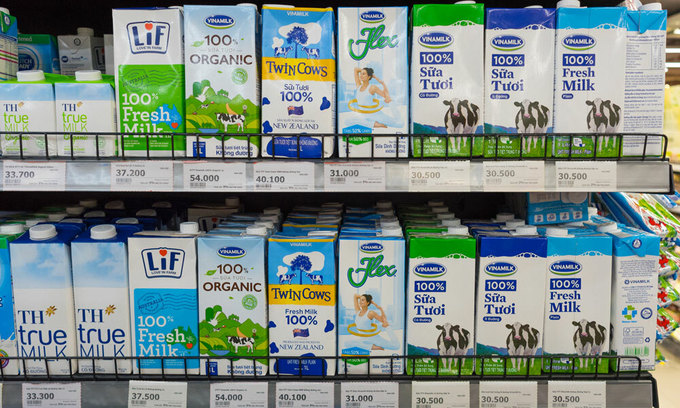lifmilk: (126, 19, 171, 57), (139, 244, 185, 281)
thtruemilk: (17, 305, 58, 325), (77, 304, 117, 323), (2, 101, 27, 113), (61, 101, 84, 111)
twincowsmilk: (264, 58, 327, 79), (271, 285, 331, 303)
vinamilk: (417, 29, 455, 50), (560, 32, 598, 51), (549, 258, 584, 277), (483, 260, 519, 278), (489, 34, 527, 51), (412, 260, 446, 278), (203, 12, 235, 30), (355, 10, 387, 25), (216, 246, 246, 259), (356, 241, 386, 253)
